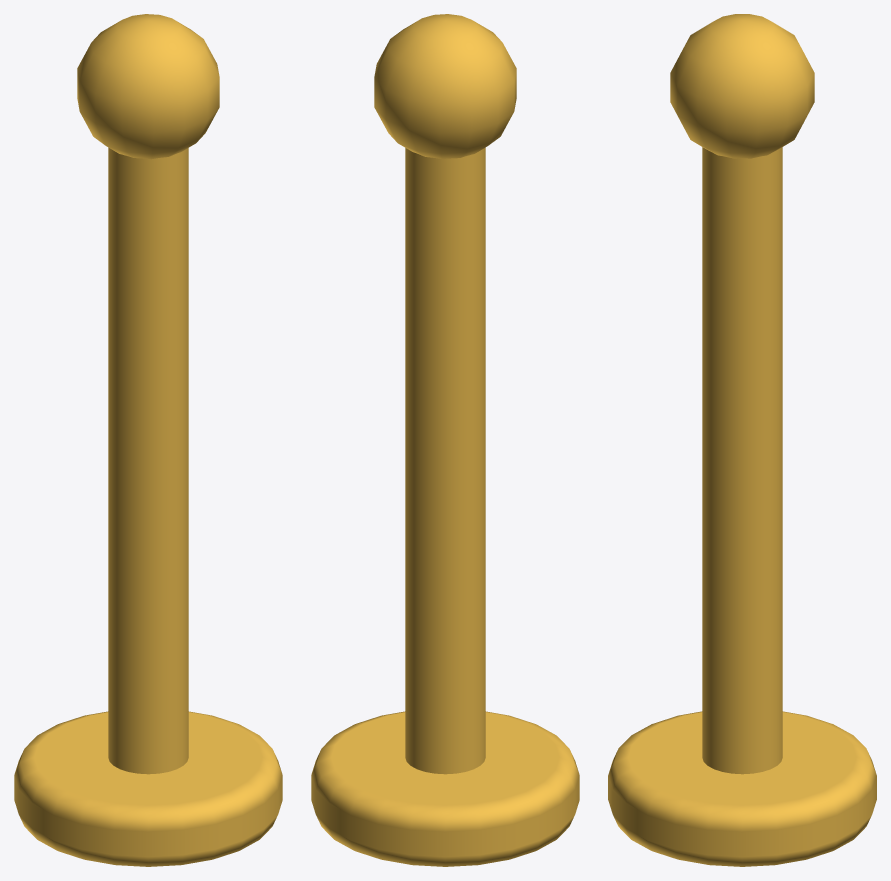
The model's file is rope_post.glb.
The picture shows the model from 3 angles, left to right: view 1: azimuth 30°, elevation 25°; view 2: azimuth 150°, elevation 25°; view 3: azimuth 270°, elevation 25°; orthographic projection.
Visible parts, largest first — view 1: rope_post; view 2: rope_post; view 3: rope_post.
Part boxes in pixels (left/top/right/bottom): rope_post: left=14, top=14, right=282, bottom=866; rope_post: left=311, top=14, right=579, bottom=866; rope_post: left=608, top=14, right=876, bottom=866.
Size of the model in its own units: 0.2 by 0.655 by 0.2.
